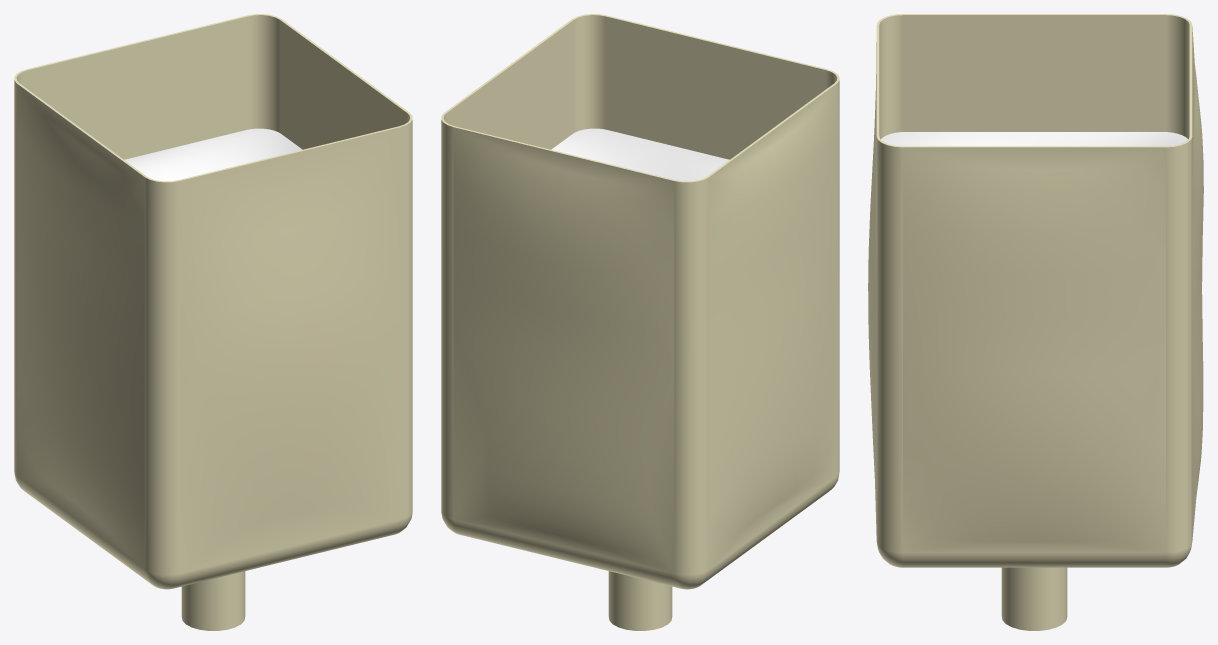
File: Assemblybigbag.glb
3 renders of one model, left to right at view 1: azimuth 30°, elevation 25°; view 2: azimuth 150°, elevation 25°; view 3: azimuth 270°, elevation 25°, orthographic. The views are drawn at different scales.
Visible parts, largest first — view 1: Bryła1, Bryła2; view 2: Bryła1, Bryła2; view 3: Bryła1, Bryła2.
Boxes of the visible parts, box(x1,y1,x2,y2) form: Bryła1: box(14, 14, 412, 630); Bryła2: box(124, 128, 302, 181); Bryła1: box(441, 14, 839, 630); Bryła2: box(551, 128, 729, 181); Bryła1: box(868, 14, 1203, 630); Bryła2: box(881, 132, 1187, 146).
Bounding box in the file's own units: 1.28 × 2.25 × 1.28.
